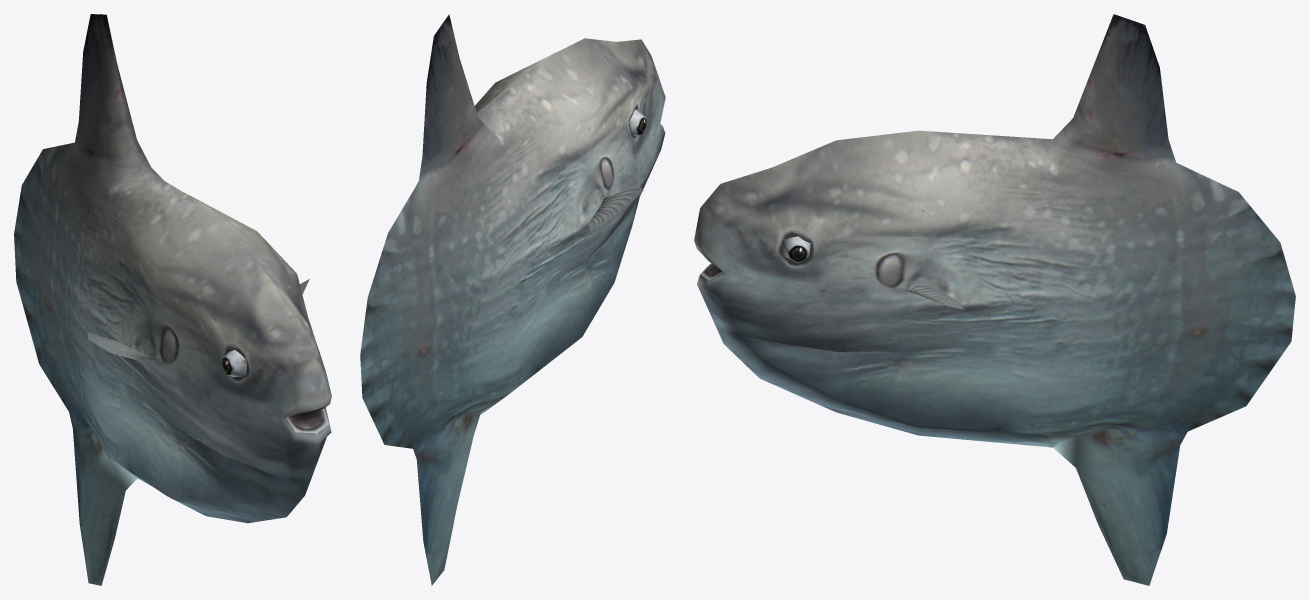
File: Sunfish.fbx
The picture shows the model from 3 angles, left to right: view 1: azimuth 30°, elevation 25°; view 2: azimuth 150°, elevation 25°; view 3: azimuth 270°, elevation 25°; orthographic projection. The views are drawn at different scales.
Visible parts, largest first — view 1: start:sunfish, start:fins, start:eyes; view 2: start:sunfish, start:fins; view 3: start:sunfish.
Part boxes in pixels (bbox=[...]): start:sunfish: bbox=[14, 14, 331, 585]; start:fins: bbox=[87, 279, 309, 359]; start:eyes: bbox=[222, 349, 246, 377]; start:sunfish: bbox=[360, 14, 665, 585]; start:fins: bbox=[588, 184, 643, 232]; start:sunfish: bbox=[694, 14, 1295, 585].
Bounding box in the file's own units: 83.36 × 209 × 199.
